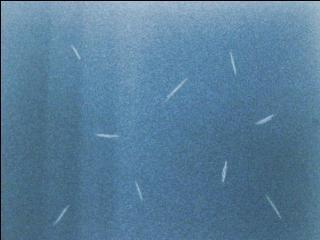scratch: (129, 176, 147, 206), (225, 49, 242, 79), (166, 77, 188, 100), (264, 193, 282, 220), (65, 41, 87, 63), (51, 203, 71, 227), (255, 111, 279, 127), (221, 158, 229, 185), (94, 130, 121, 138)
